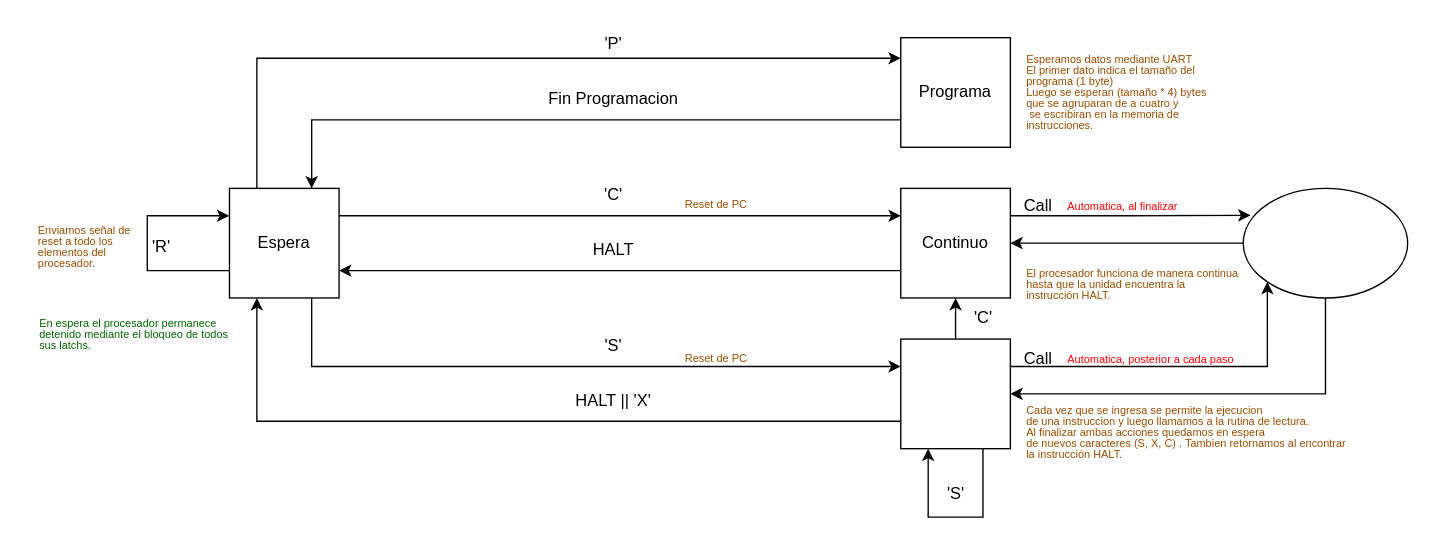
Image size: 1432x552. Some labels were removed from this diagram. Here are the shapes that lost their labels. From the top down, the centre of each, then its label:
At point 1325,242: "Lectura".
At point 954,393: "Paso a Paso".
